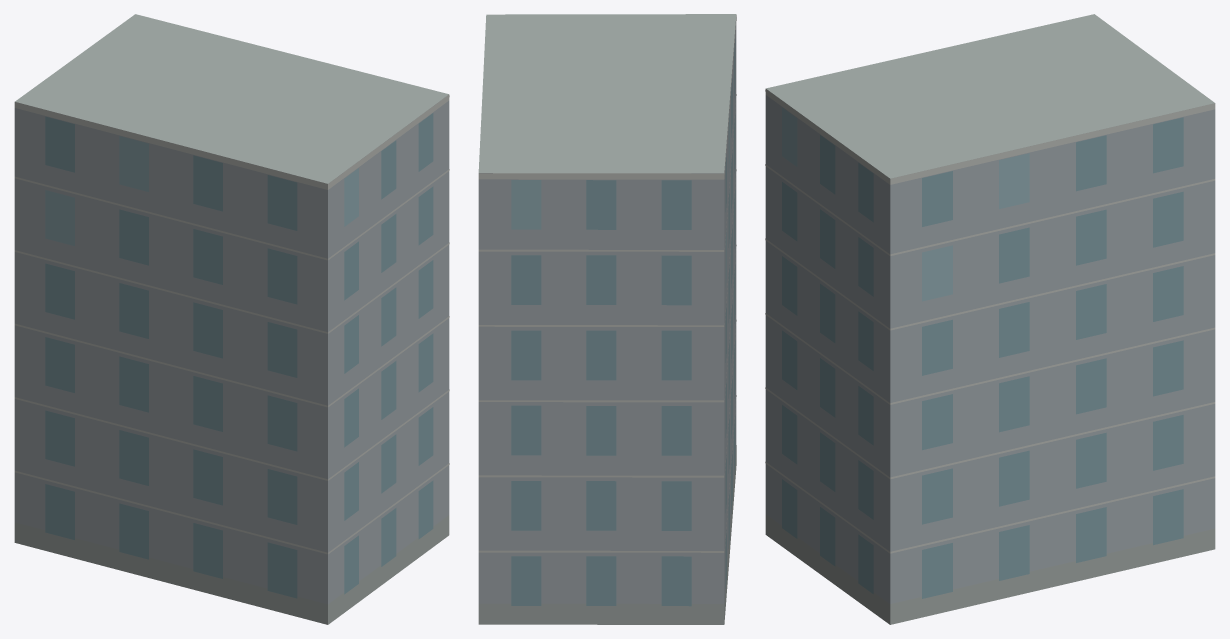
The model's file is survey-upis-32763712.glb.
The picture shows the model from 3 angles, left to right: view 1: azimuth 30°, elevation 25°; view 2: azimuth 150°, elevation 25°; view 3: azimuth 270°, elevation 25°; orthographic projection. The views are drawn at different scales.
Parts seen in each view (by area): view 1: survey-upis-32763712.tmp; view 2: survey-upis-32763712.tmp; view 3: survey-upis-32763712.tmp.
Boxes of the visible parts, left/top/right/bottom form: survey-upis-32763712.tmp: left=14, top=14, right=449, bottom=624; survey-upis-32763712.tmp: left=478, top=14, right=736, bottom=624; survey-upis-32763712.tmp: left=765, top=14, right=1215, bottom=624.
Size of the model in its own units: 13.79 by 17.4 by 15.91.
